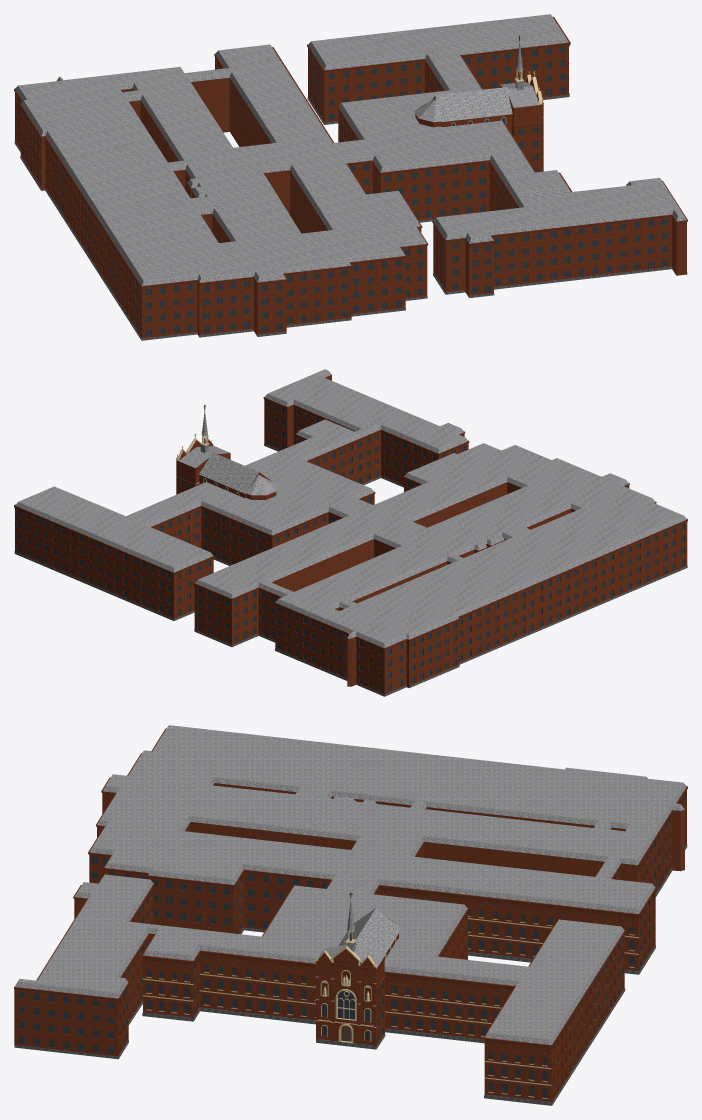
3 renders of one model, top to bottom at view 1: azimuth 30°, elevation 25°; view 2: azimuth 150°, elevation 25°; view 3: azimuth 270°, elevation 25°, orthographic. The views are drawn at different scales.
Parts seen in each view (by area): view 1: bldg_7345816_landmark; view 2: bldg_7345816_landmark; view 3: bldg_7345816_landmark.
Part boxes in pixels (x1,y1,x2,y2): bldg_7345816_landmark: [14, 14, 687, 340]; bldg_7345816_landmark: [14, 369, 687, 696]; bldg_7345816_landmark: [14, 725, 687, 1105].
Bounding box in the file's own units: 172 × 36.91 × 154.
Materials: 10 (5 with a texture image).
